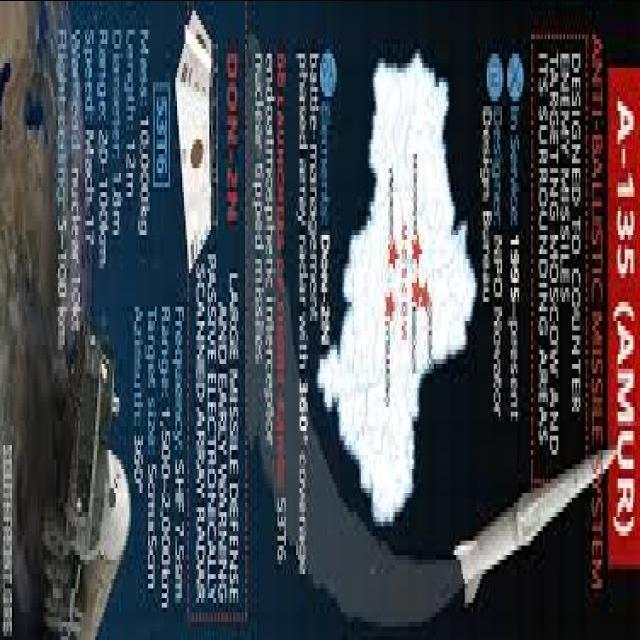Missile: (449, 432, 623, 627)
